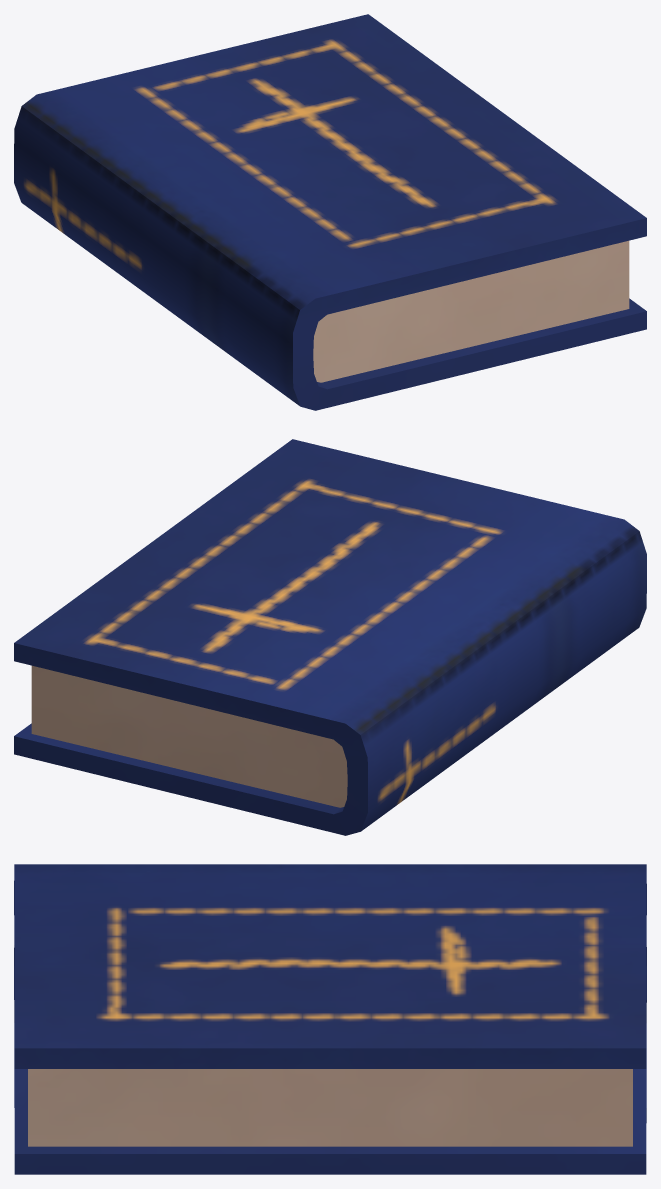
Rendered from SM_Book_02.fbx.
3 renders of one model, top to bottom at view 1: azimuth 30°, elevation 25°; view 2: azimuth 150°, elevation 25°; view 3: azimuth 270°, elevation 25°, orthographic. The views are drawn at different scales.
Parts seen in each view (by area): view 1: SM_Book_02; view 2: SM_Book_02; view 3: SM_Book_02.
Boxes of the visible parts, bbox=[...] form: SM_Book_02: bbox=[14, 14, 646, 410]; SM_Book_02: bbox=[14, 439, 646, 835]; SM_Book_02: bbox=[14, 864, 646, 1174].
Bounding box in the file's own units: 15.17 × 4.59 × 20.71.
